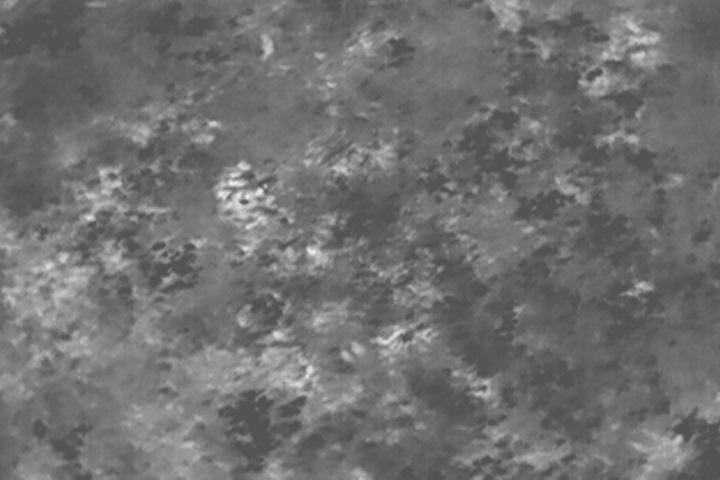landmine: (217, 160, 283, 229)
